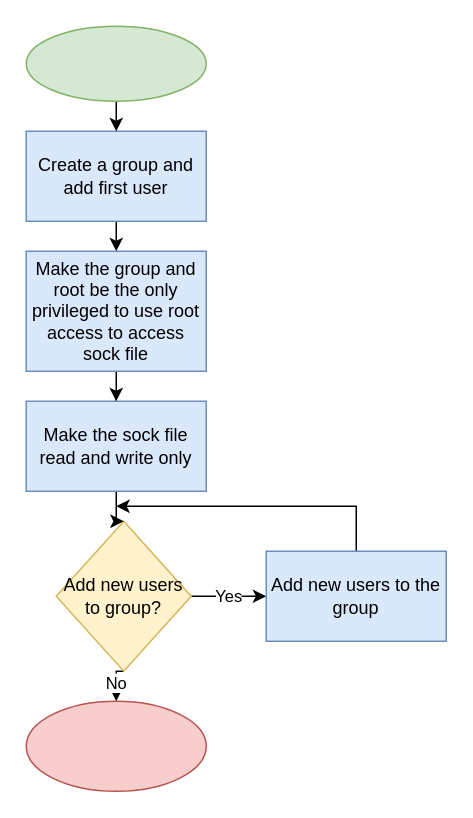
Image size: 473x818. Some labels were removed from this diagram. Here are the shapes that lost their labels. From the top down, the centre of each, then its label:
At point (115, 63): "Start".
At point (115, 745): "Stop".
